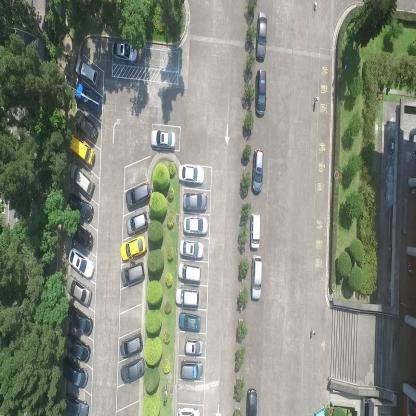car: (66, 246, 94, 279), (64, 274, 92, 307), (73, 80, 101, 112), (66, 192, 94, 224), (61, 356, 89, 388), (68, 132, 94, 166), (74, 108, 98, 144), (66, 304, 93, 336), (69, 163, 95, 196), (67, 221, 94, 250), (74, 57, 100, 87), (64, 332, 90, 362), (126, 178, 150, 210), (121, 232, 147, 261), (119, 330, 144, 359), (110, 38, 138, 63), (120, 260, 145, 288), (120, 356, 145, 384), (250, 147, 264, 194), (63, 391, 89, 416), (255, 10, 267, 62), (254, 69, 267, 116), (178, 162, 204, 185), (251, 253, 263, 302), (182, 214, 208, 236), (174, 286, 200, 308), (150, 128, 176, 150), (178, 259, 201, 283), (180, 238, 204, 260), (179, 359, 203, 381), (126, 210, 148, 234), (178, 311, 201, 333), (182, 191, 208, 210), (250, 210, 260, 250), (245, 386, 258, 416), (184, 336, 204, 355), (174, 404, 201, 415)
